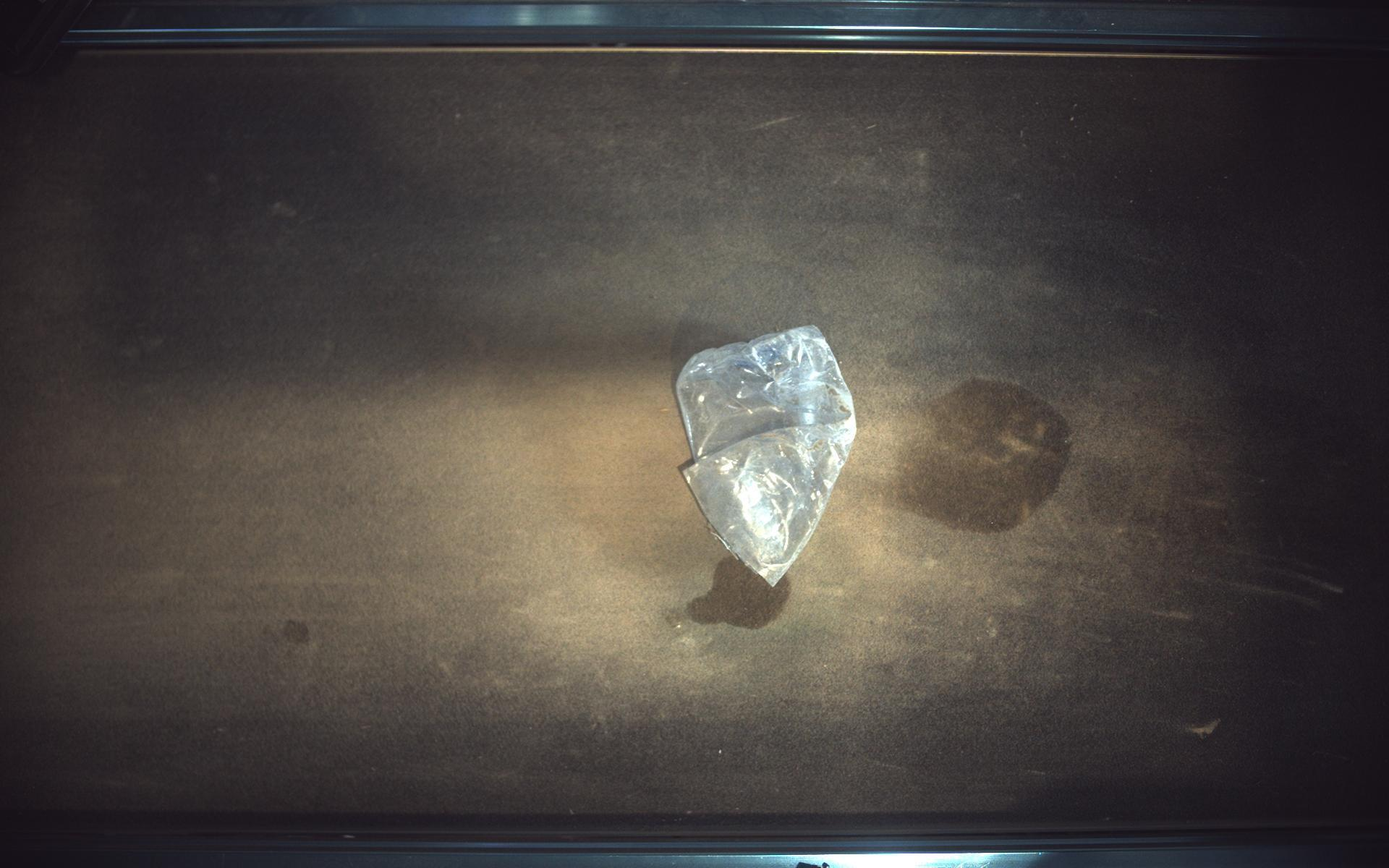general_w: (677, 326, 857, 587)
